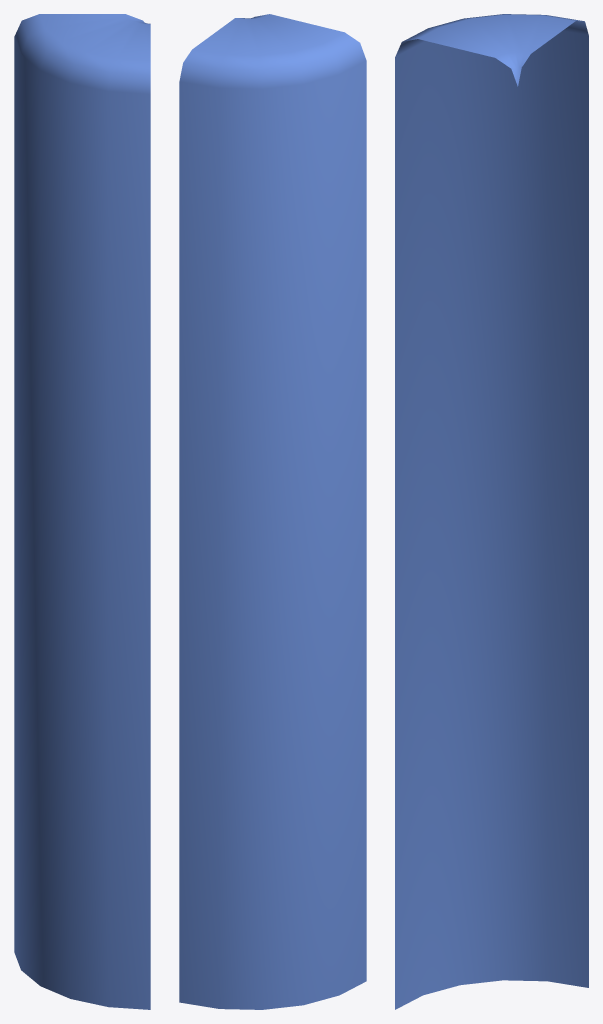
The model's file is Corner.fbx.
3 renders of one model, left to right at view 1: azimuth 90°, elevation 25°; view 2: azimuth 150°, elevation 25°; view 3: azimuth 330°, elevation 25°, orthographic. The views are drawn at different scales.
Visible parts, largest first — view 1: Corner; view 2: Corner; view 3: Corner.
Part boxes in pixels (x1=…): Corner: x1=14, y1=14, x2=150, y2=1009; Corner: x1=179, y1=14, x2=366, y2=1009; Corner: x1=395, y1=14, x2=588, y2=1009.
Bounding box in the file's own units: 0.1448 × 1.1 × 0.1448.
